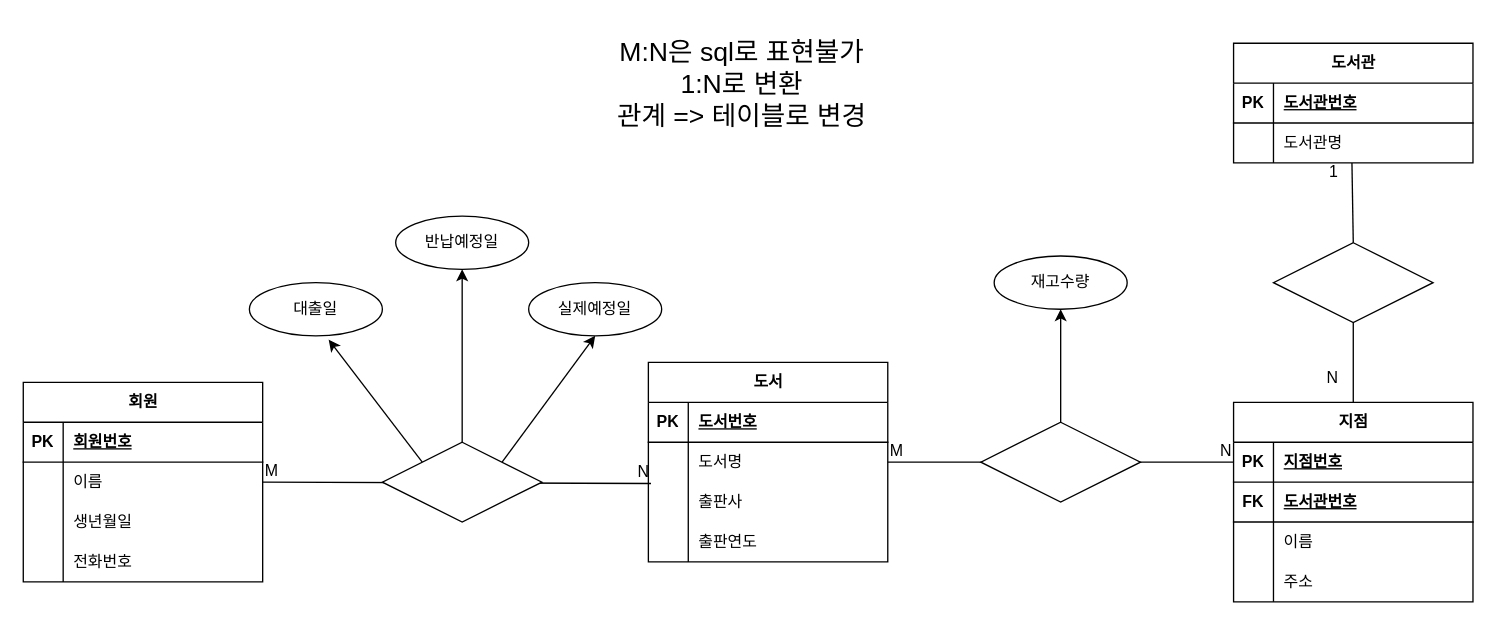
Some shapes in this 1496 by 625 pixel diagram are drawn without their labels. The shapes that lost their labels are listed below. From the top down, each one's centre as x and y in pixels, then its label:
(x=1352, y=282): 운영한다
(x=461, y=481): 대출한다
(x=1060, y=461): 보유한다
